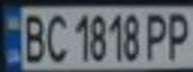1: (106, 10, 127, 62), (69, 10, 90, 62)
8: (121, 10, 145, 62), (87, 10, 109, 62)
B: (18, 9, 48, 64)
C: (42, 10, 69, 63)
P: (160, 9, 193, 61), (142, 9, 172, 61)
